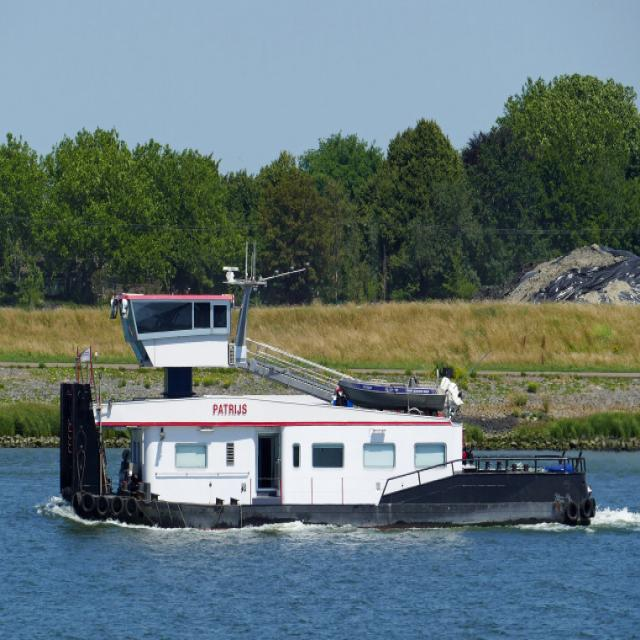tugboat: (55, 237, 602, 544)
